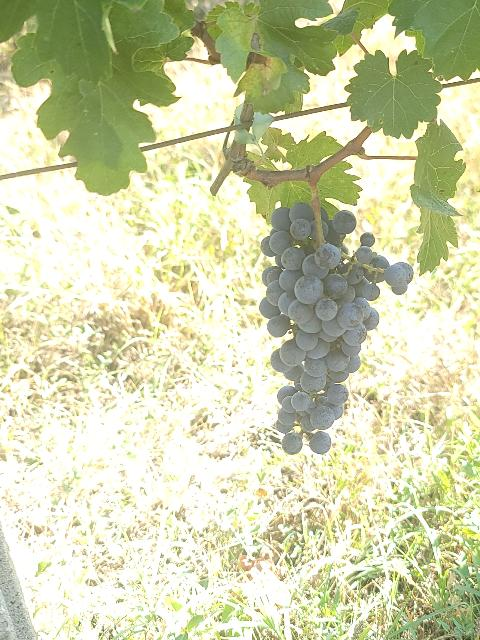grapes: (259, 202, 414, 454)
